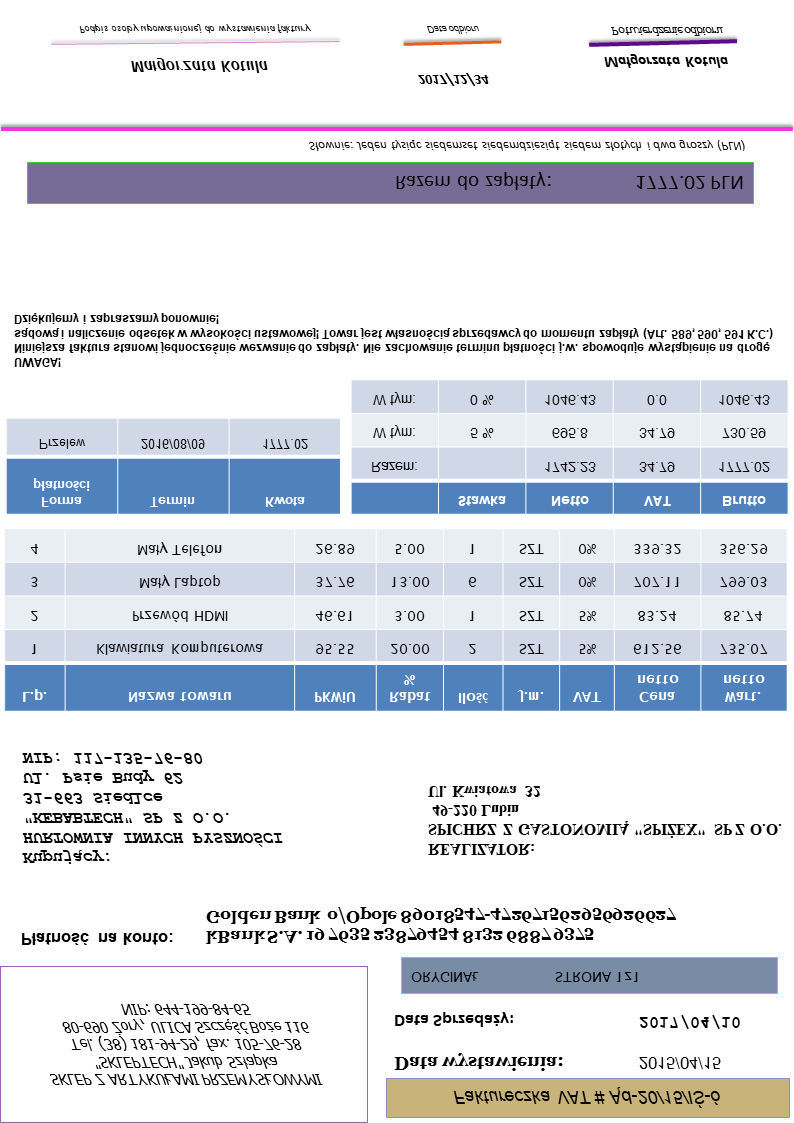Table: (2, 526, 789, 715), (347, 377, 789, 517), (5, 418, 342, 516)
TextBox: (10, 309, 777, 374), (16, 749, 286, 870), (423, 781, 786, 861), (45, 996, 326, 1096), (201, 905, 680, 950), (390, 171, 745, 199), (305, 137, 752, 156), (448, 1087, 727, 1112), (408, 965, 642, 989), (391, 1052, 568, 1078), (72, 21, 315, 38), (14, 926, 178, 950), (127, 55, 272, 82), (388, 1008, 521, 1033), (597, 52, 734, 74), (635, 1011, 745, 1036), (633, 1050, 723, 1078), (604, 22, 727, 39), (414, 70, 491, 90), (422, 19, 483, 38)
